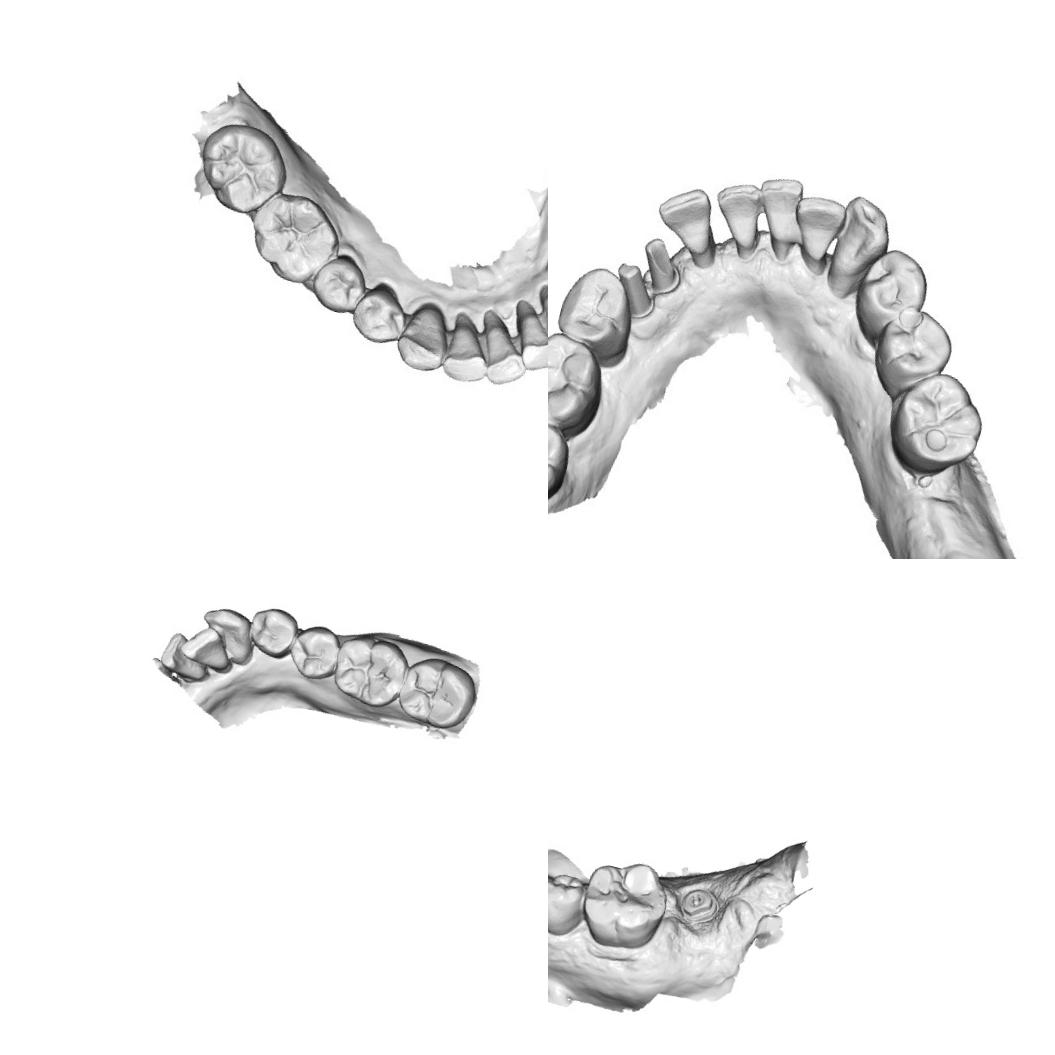abutment: (599, 252, 668, 329), (632, 225, 694, 302)
canine: (822, 192, 897, 306), (387, 298, 454, 376), (192, 600, 261, 668)
implant_minus: (671, 881, 724, 932)
incisor: (644, 175, 729, 266), (780, 192, 850, 276), (703, 174, 771, 256), (746, 174, 810, 260), (473, 309, 532, 385), (438, 310, 497, 384), (174, 617, 238, 674), (155, 628, 217, 686), (509, 302, 548, 367), (527, 285, 548, 351)
molar: (878, 360, 995, 488), (238, 181, 342, 293), (572, 848, 676, 960), (188, 113, 291, 218), (392, 648, 485, 736), (326, 626, 413, 713), (548, 323, 611, 436), (548, 410, 576, 514)
premolar: (548, 256, 646, 374), (859, 297, 957, 409), (842, 239, 934, 348), (308, 247, 374, 321), (346, 278, 410, 350), (283, 618, 346, 686), (242, 602, 302, 662), (548, 864, 591, 941)
